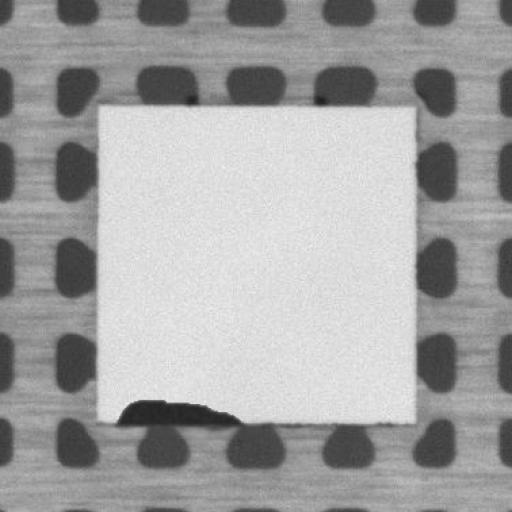DIE_BROKEN: (111, 395, 247, 424)
